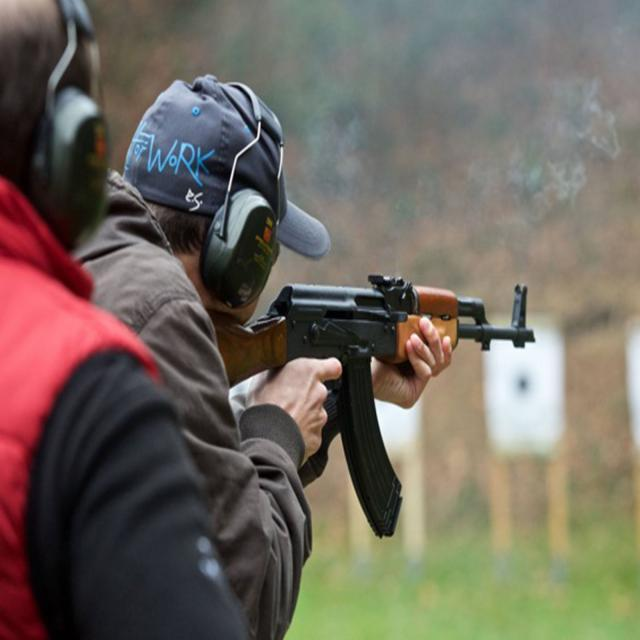weapon: (203, 272, 538, 540)
